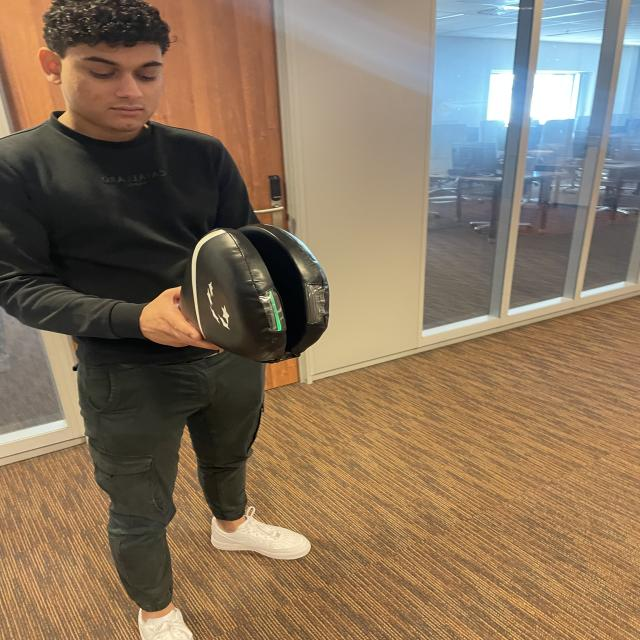paddle: (183, 224, 328, 359)
trigger: (264, 290, 284, 336)
